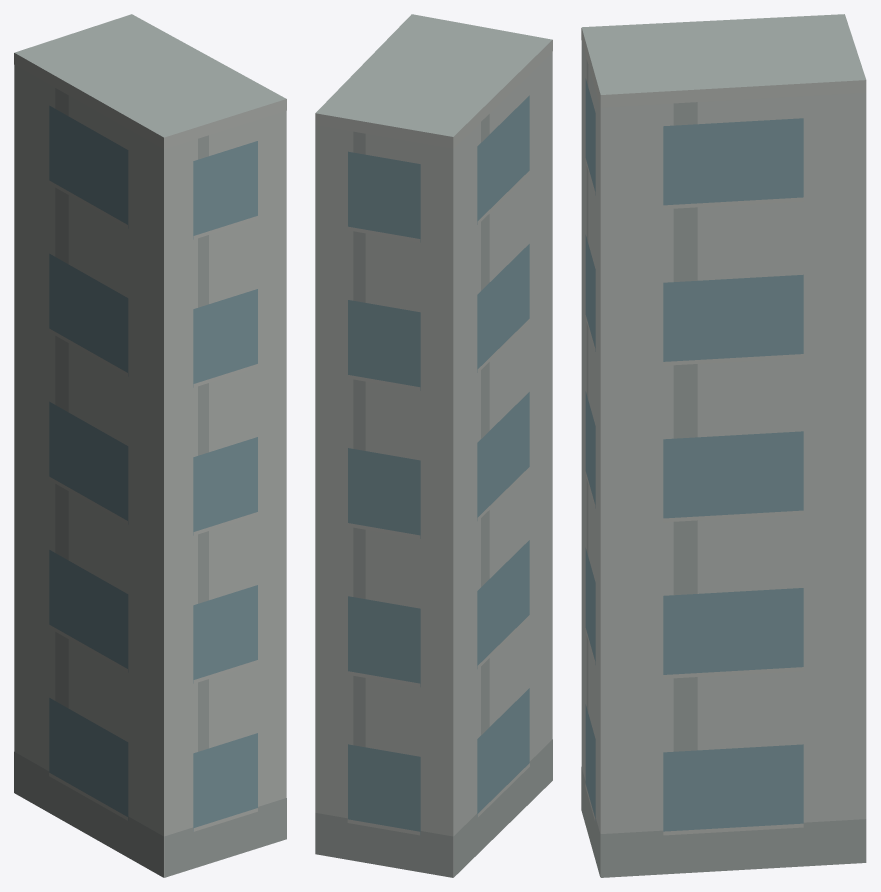
The model's file is survey-upis-32908434.glb.
3 views of the same model, side by side, from view 1: azimuth 30°, elevation 25°; view 2: azimuth 150°, elevation 25°; view 3: azimuth 270°, elevation 25° (orthographic). The views are drawn at different scales.
Visible parts, largest first — view 1: survey-upis-32908434.tmp; view 2: survey-upis-32908434.tmp; view 3: survey-upis-32908434.tmp.
Part boxes in pixels (left/top/right/bottom): survey-upis-32908434.tmp: left=14, top=14, right=286, bottom=877; survey-upis-32908434.tmp: left=315, top=14, right=552, bottom=877; survey-upis-32908434.tmp: left=581, top=14, right=866, bottom=877.
Size of the model in its own units: 3.4 by 15.25 by 5.04.
